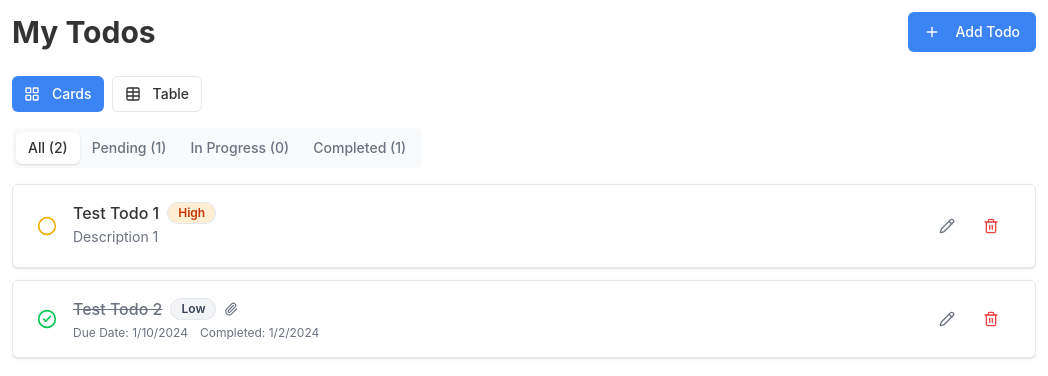
Scenario: TodoList › switching to Table view renders the DataTable headers
The image size is (1048, 376).
Expected: the text "Test Todo 1" is shown, [73,201,159,225]
What coordinates should you click on to do the following:
click the button "Table"
I would click on:
 (157, 94)
Its box is [112,76,202,112].
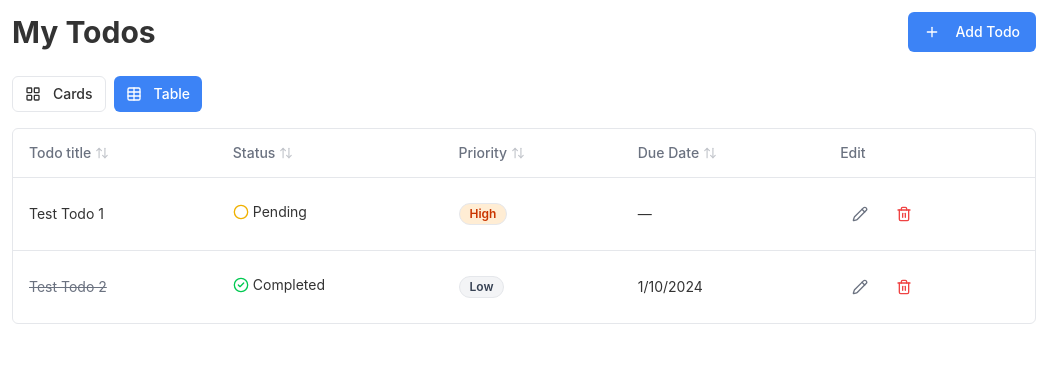
Now the button "Todo title" is shown, box [29,143,109,163]
Now the button "Status" is shown, box [233,143,293,163]
Now the button "Priority" is shown, box [458,143,525,163]
